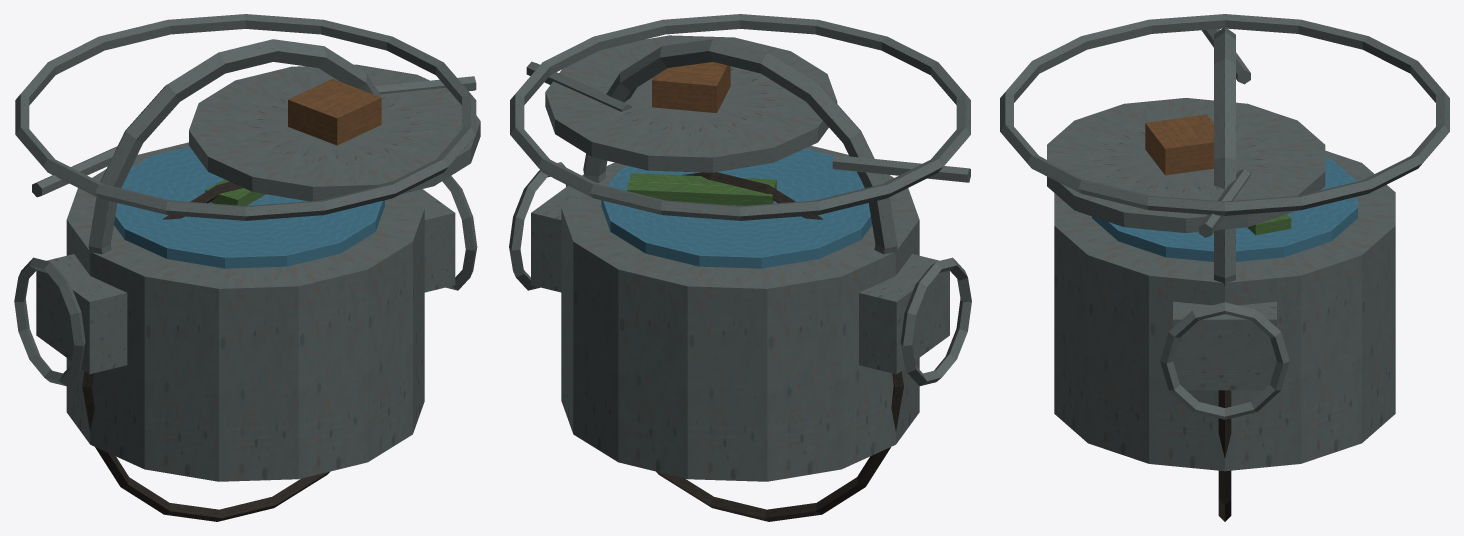
The model's file is pr-015_cook_pot__cooking.obj.
3 views of the same model, side by side, from view 1: azimuth 30°, elevation 25°; view 2: azimuth 150°, elevation 25°; view 3: azimuth 270°, elevation 25° (orthographic). The views are drawn at different scales.
Parts seen in each view (by area): view 1: pr-015_cook_pot__cooking; view 2: pr-015_cook_pot__cooking; view 3: pr-015_cook_pot__cooking.
Boxes of the visible parts, left/top/right/bottom form: pr-015_cook_pot__cooking: left=14, top=14, right=480, bottom=521; pr-015_cook_pot__cooking: left=509, top=14, right=971, bottom=521; pr-015_cook_pot__cooking: left=1000, top=14, right=1449, bottom=521.
Size of the model in its own units: 0.766 by 0.7785 by 0.6933.
Materials: 5 (5 with a texture image).
